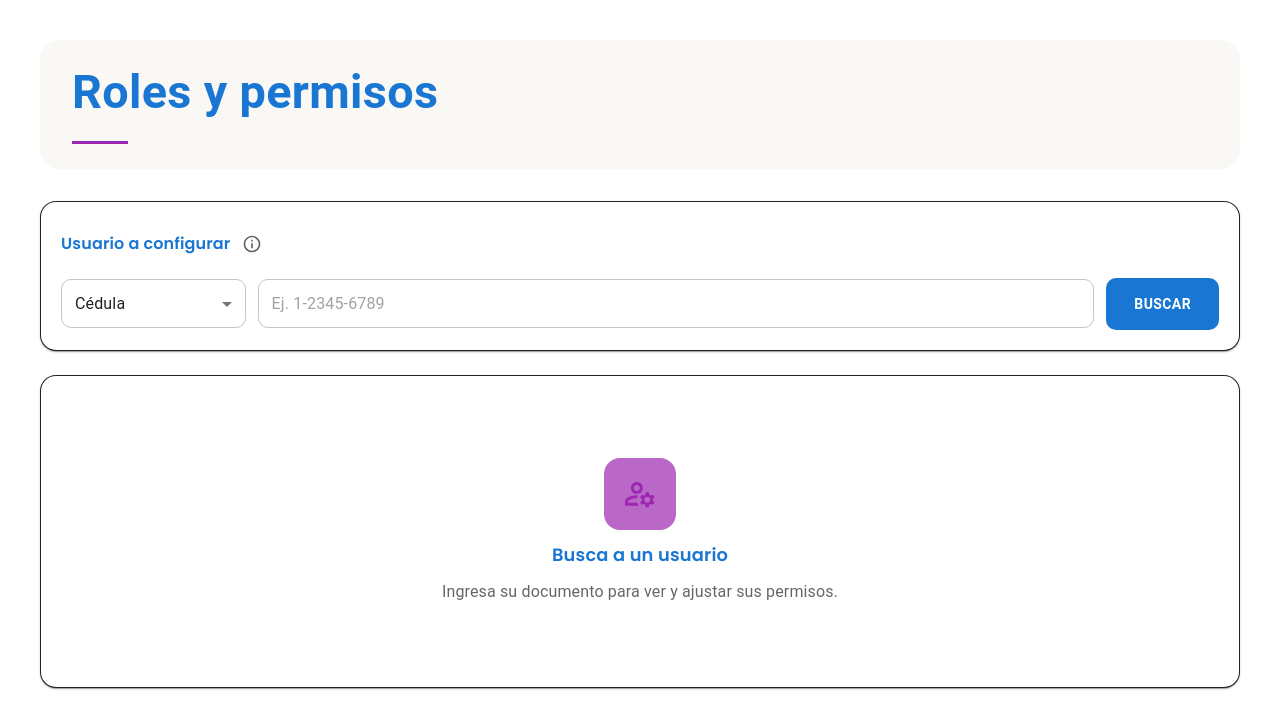
Scenario: RoleAccessManagement (HU-009 permisos por usuario) › muestra "Usuario no existente" cuando el backend responde 404
Type "999999999" into the field named "Número de documento". click: (676, 304)
box: [258,280,1094,328]
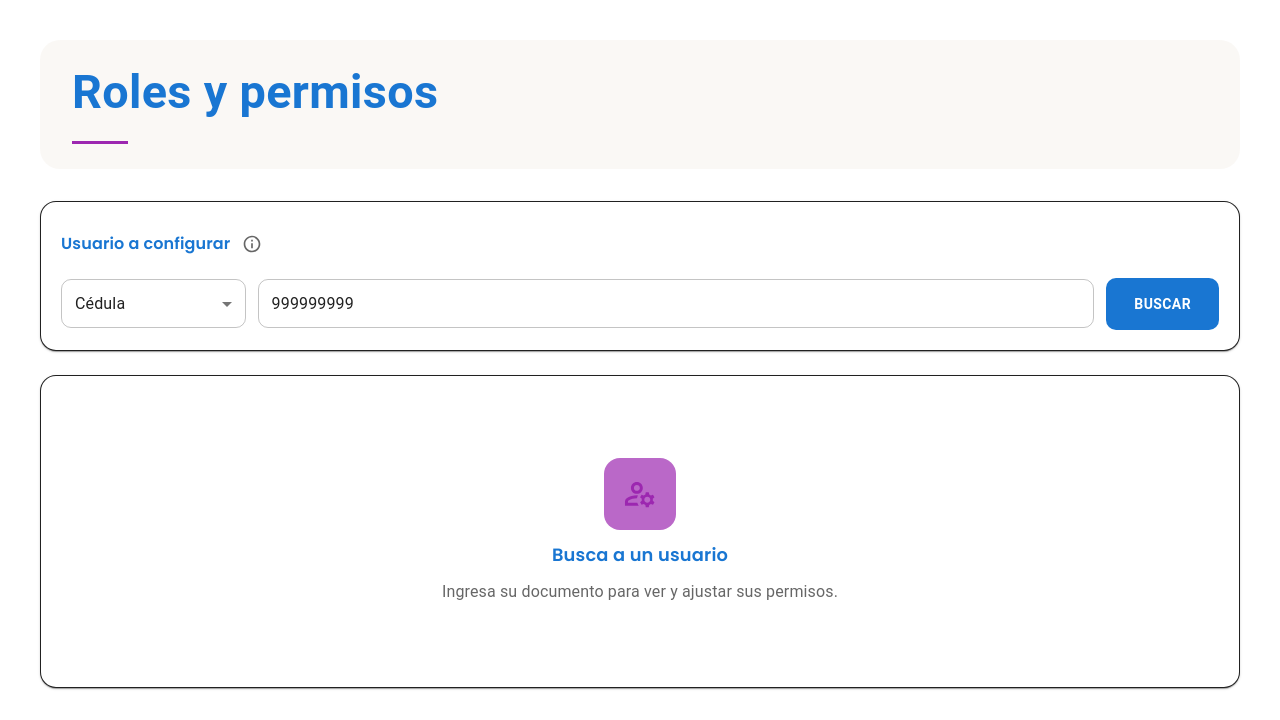
Click the button "Buscar". click: (1163, 304)
box: [1106,278,1219,330]
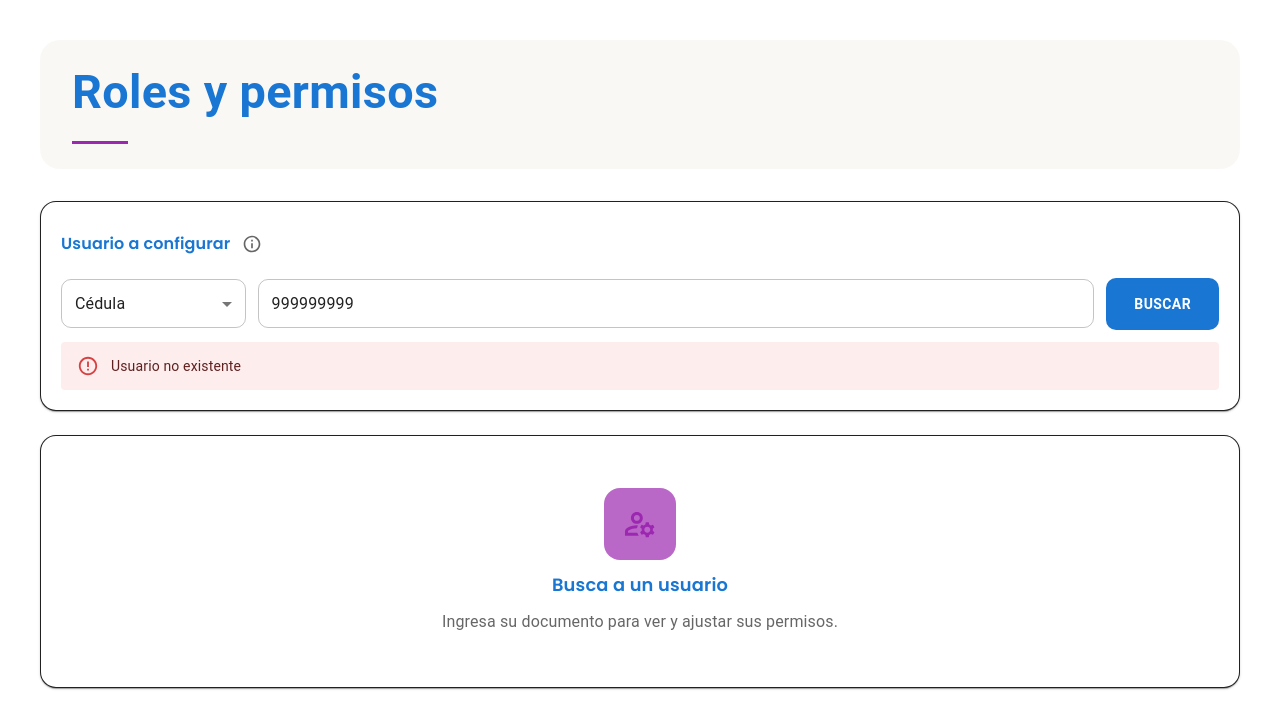
Now the message reads "Usuario no existente", box [111,358,241,374]
